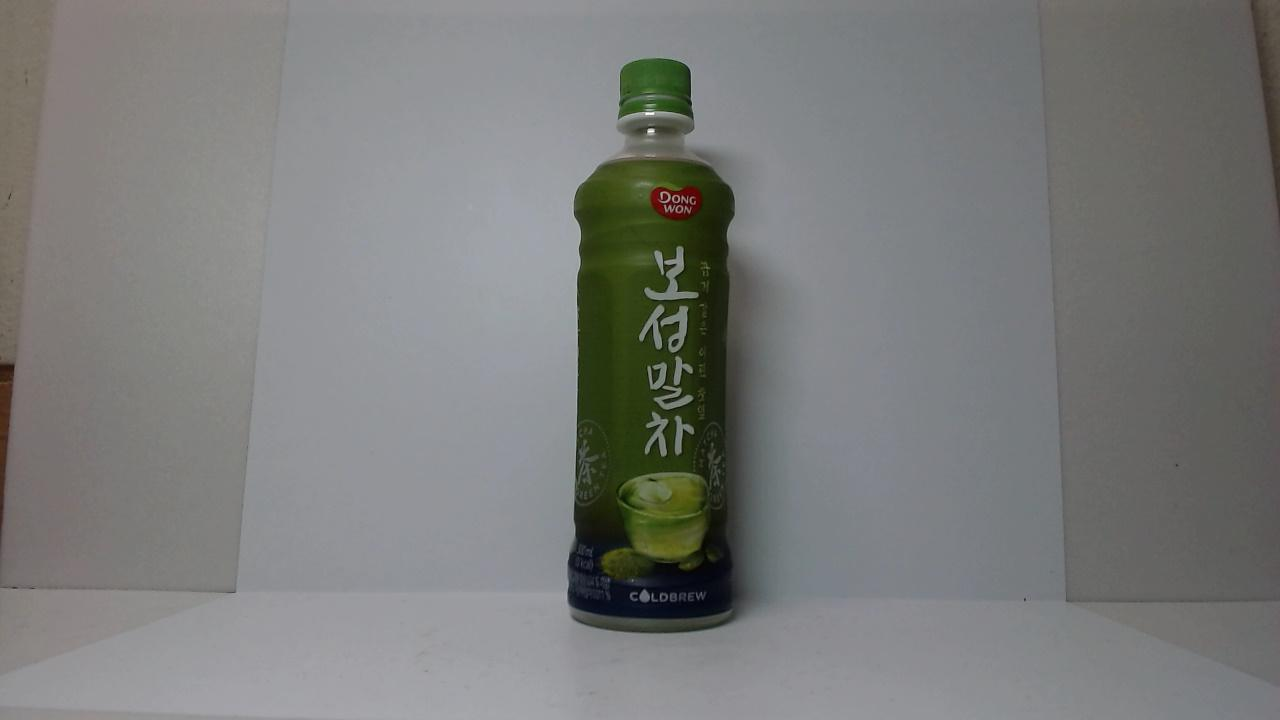bottle: (552, 342, 745, 344)
